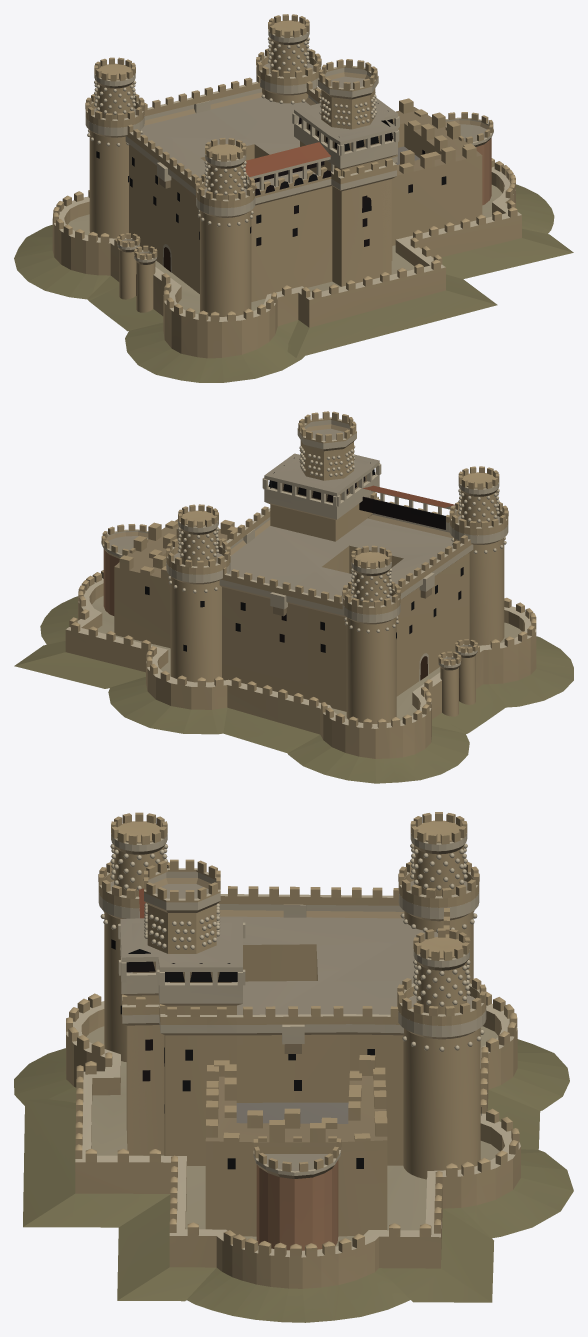
3 renders of one model, top to bottom at view 1: azimuth 30°, elevation 25°; view 2: azimuth 150°, elevation 25°; view 3: azimuth 270°, elevation 25°, orthographic. The views are drawn at different scales.
Visible parts, largest first — view 1: barrier, main_body, east_body, keep, tower_south, tower_west, tower_north, gallery; view 2: barrier, main_body, keep, tower_north, tower_west, east_body, tower_south, gallery; view 3: barrier, main_body, east_body, keep, tower_north, tower_west, tower_south.
Boxes of the visible parts, x1,y1,x2,y2 form: barrier: (14,158,573,382); main_body: (125,72,397,301); east_body: (392,98,493,245); keep: (292,59,399,285); tower_south: (195,137,255,316); tower_west: (85,57,144,238); tower_north: (256,14,321,104); gallery: (244,142,334,196); barrier: (14,570,573,783); main_body: (219,492,473,711); keep: (262,411,381,541); tower_north: (166,504,230,682); tower_west: (342,545,400,723); east_body: (101,519,237,648); tower_south: (449,466,508,645); gallery: (359,485,456,529); barrier: (14,991,573,1322); main_body: (121,886,449,1165); east_body: (205,1055,387,1250); keep: (118,859,245,1165); tower_north: (397,928,486,1179); tower_west: (398,812,479,983); tower_south: (98,812,169,1061).
Bounding box in the file's own units: 83.8 × 40.6 × 64.58.
